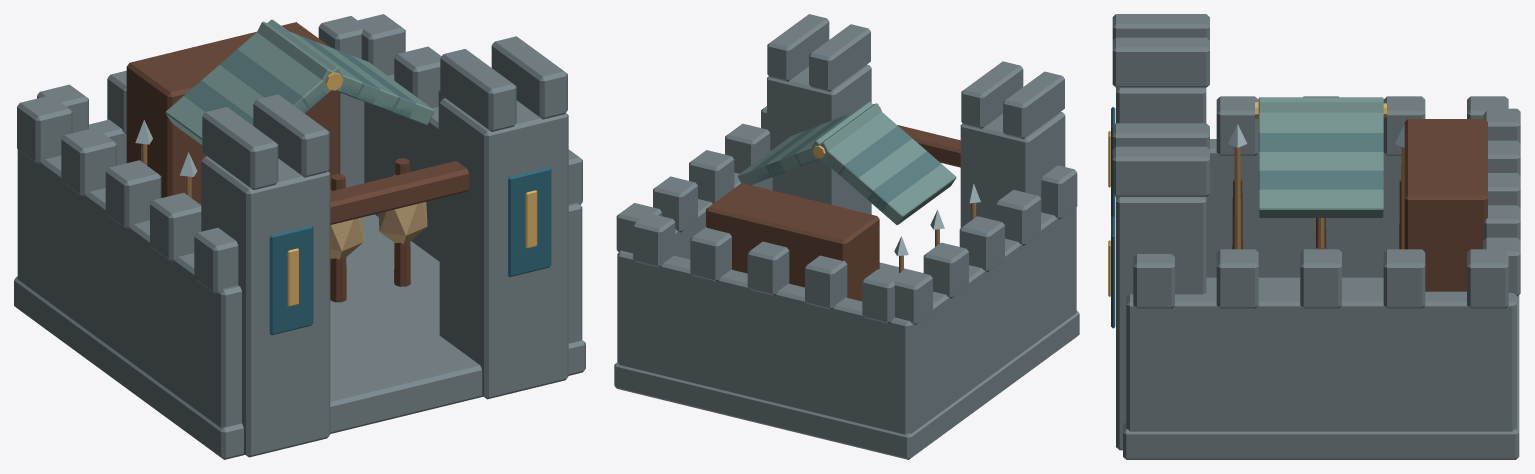
The model's file is barracks.glb.
3 renders of one model, left to right at view 1: azimuth 30°, elevation 25°; view 2: azimuth 150°, elevation 25°; view 3: azimuth 270°, elevation 25°, orthographic. The views are drawn at different scales.
Visible parts, largest first — view 1: Geometry; view 2: Geometry; view 3: Geometry.
Boxes of the visible parts, bbox=[...] form: Geometry: bbox=[14, 14, 585, 459]; Geometry: bbox=[614, 14, 1079, 459]; Geometry: bbox=[1108, 14, 1520, 459].
Size of the model in its own units: 2.89 by 2.32 by 2.96.
